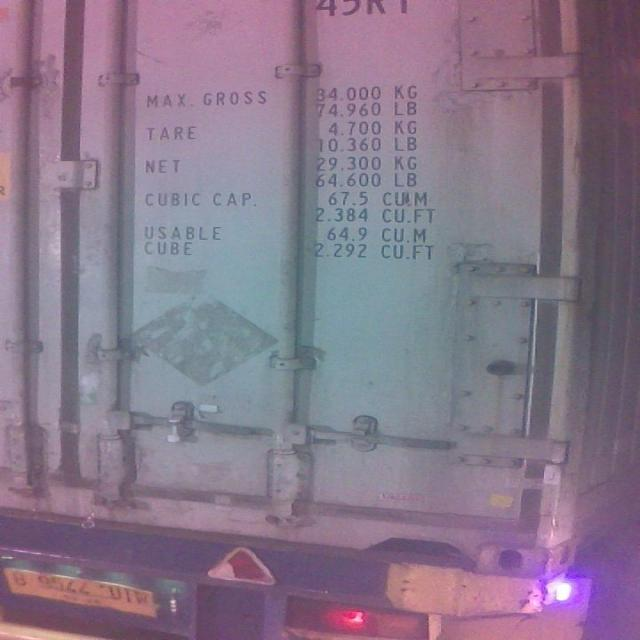seal: (160, 406, 190, 450)
